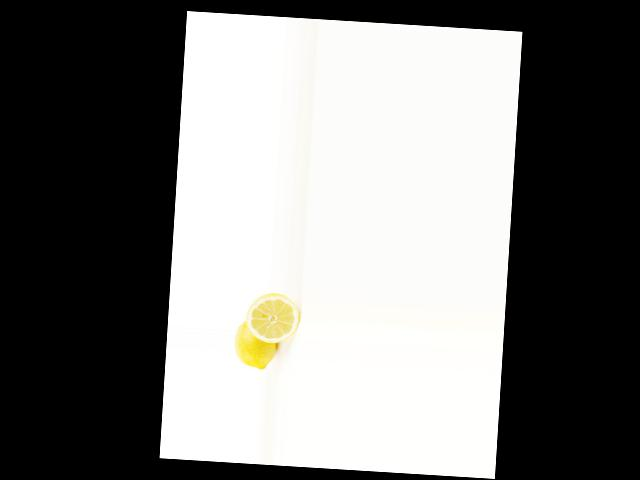lemon: (233, 318, 283, 372)
